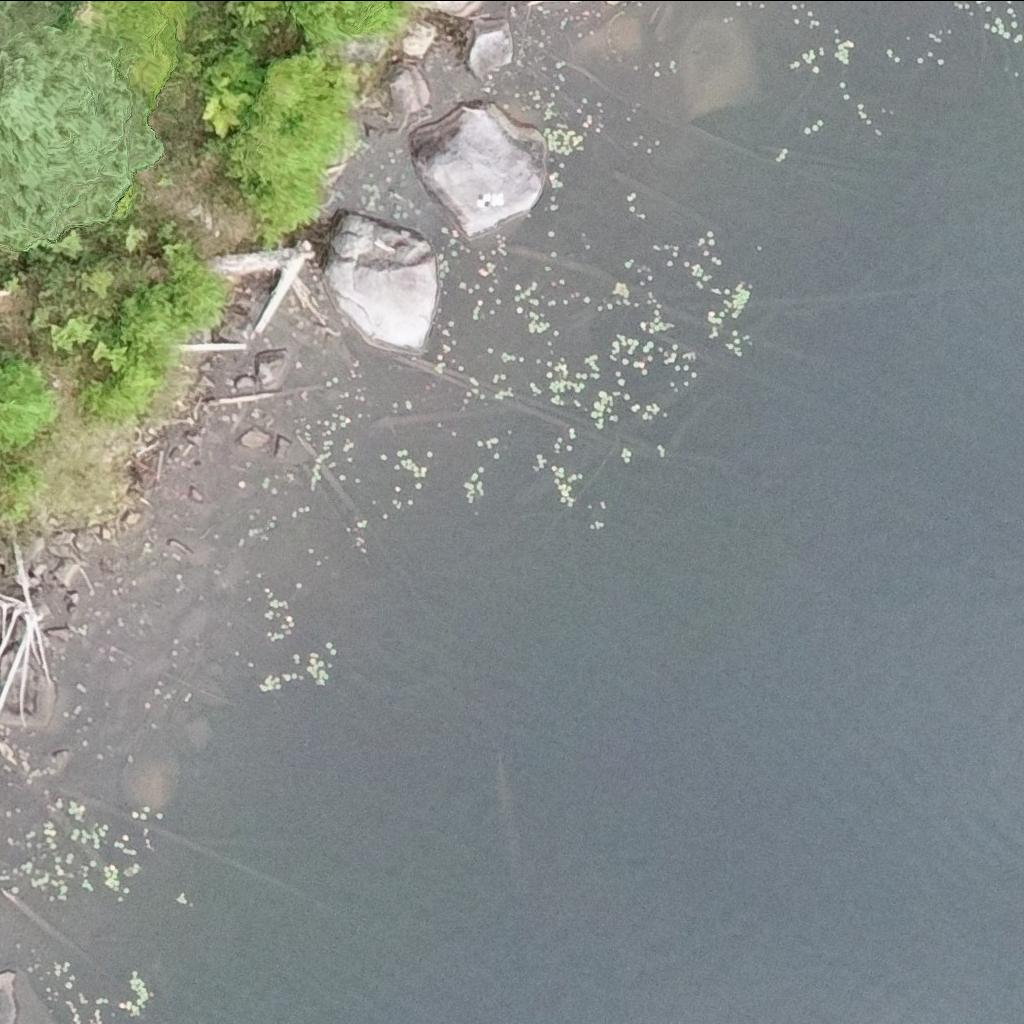crown: (0, 0, 163, 251), (224, 121, 342, 247), (57, 0, 180, 114), (244, 45, 354, 132), (0, 359, 56, 453), (285, 0, 401, 42)
